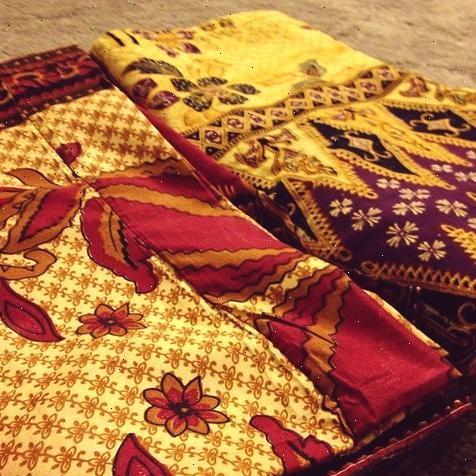malong: (0, 0, 474, 476)
